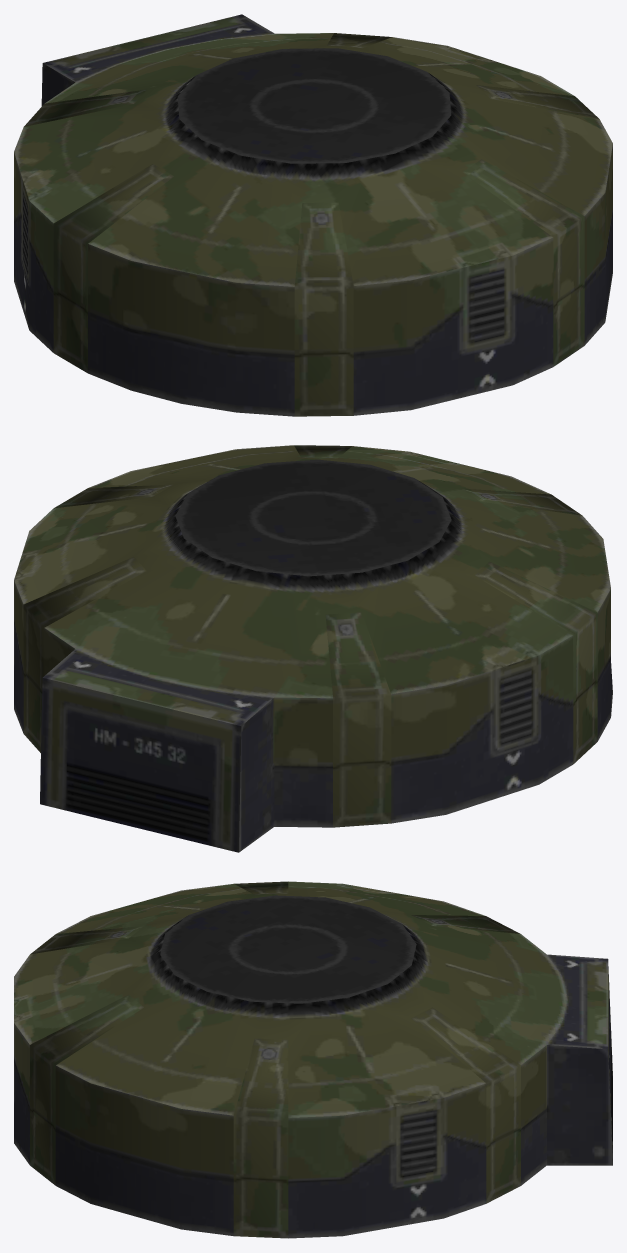
File: object_2.019_lev3.glb
The picture shows the model from 3 angles, top to bottom: view 1: azimuth 30°, elevation 25°; view 2: azimuth 150°, elevation 25°; view 3: azimuth 270°, elevation 25°; orthographic projection. The views are drawn at different scales.
Visible parts, largest first — view 1: object_2.019_lev3; view 2: object_2.019_lev3; view 3: object_2.019_lev3.
Part boxes in pixels (x1,y1,x2,y2): object_2.019_lev3: [14, 14, 612, 416]; object_2.019_lev3: [14, 445, 612, 852]; object_2.019_lev3: [14, 881, 612, 1238].
Bounding box in the file's own units: 2.75 × 0.9252 × 2.94.
Materials: 1 (1 with a texture image).
